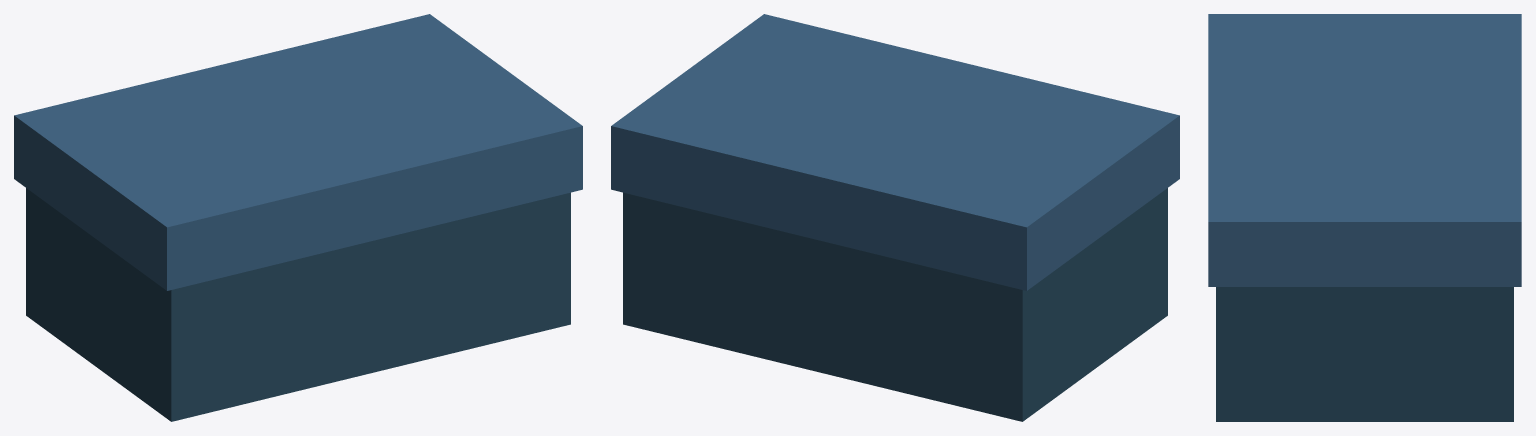
File: SM_Prop_ShoeBox_02.glb
3 renders of one model, left to right at view 1: azimuth 30°, elevation 25°; view 2: azimuth 150°, elevation 25°; view 3: azimuth 270°, elevation 25°, orthographic. The views are drawn at different scales.
Visible parts, largest first — view 1: SM_Prop_ShoeBox_02; view 2: SM_Prop_ShoeBox_02; view 3: SM_Prop_ShoeBox_02.
Part boxes in pixels (left/top/right/bottom): SM_Prop_ShoeBox_02: left=14, top=14, right=582, bottom=421; SM_Prop_ShoeBox_02: left=611, top=14, right=1179, bottom=421; SM_Prop_ShoeBox_02: left=1208, top=14, right=1521, bottom=421.
Size of the model in its own units: 0.2893 by 0.1325 by 0.1845.
1 material, 1 textured.
